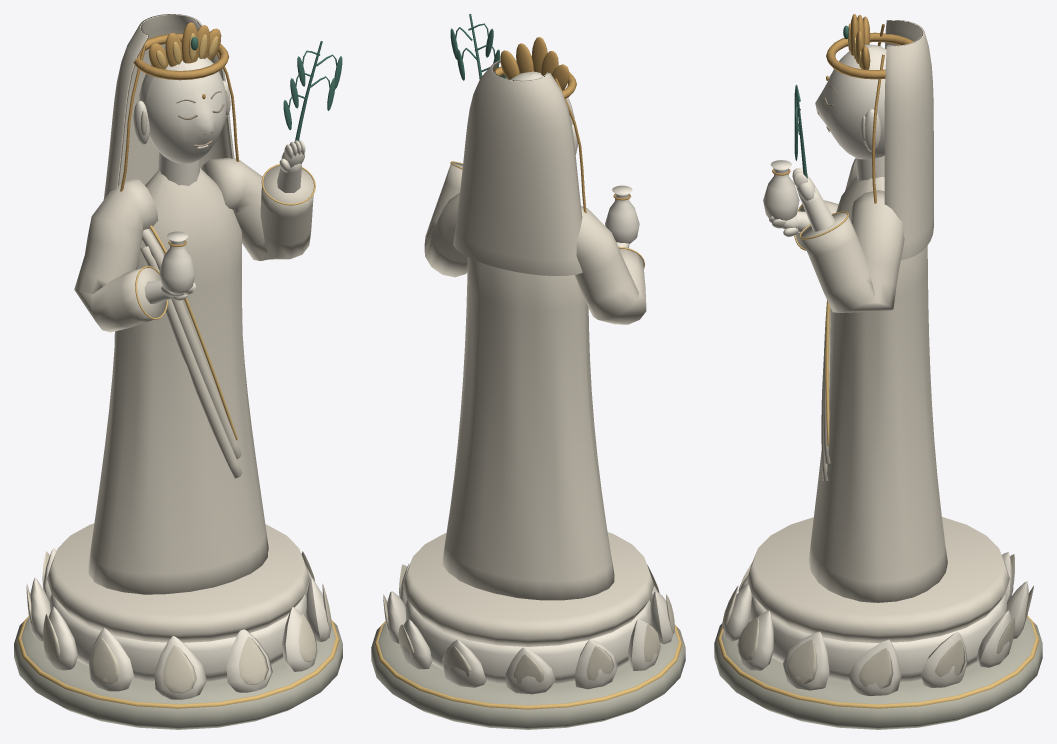
The model's file is quanam_lod1.glb.
3 views of the same model, side by side, from view 1: azimuth 30°, elevation 25°; view 2: azimuth 150°, elevation 25°; view 3: azimuth 270°, elevation 25° (orthographic). The views are drawn at different scales.
Visible parts, largest first — view 1: quanam_IvoryDrapery, quanam_WarmPorcelain, quanam_PaleStonePlinth, quanam_PorcelainPetalRelief, quanam_RaisedGoldBorders, quanam_AntiqueGold, quanam_JadeAccents; view 2: quanam_IvoryDrapery, quanam_WarmPorcelain, quanam_PaleStonePlinth, quanam_PorcelainPetalRelief, quanam_AntiqueGold, quanam_RaisedGoldBorders, quanam_JadeAccents; view 3: quanam_IvoryDrapery, quanam_WarmPorcelain, quanam_PaleStonePlinth, quanam_PorcelainPetalRelief, quanam_RaisedGoldBorders, quanam_AntiqueGold, quanam_JadeAccents.
Boxes of the visible parts, bbox=[...] form: quanam_IvoryDrapery: bbox=[47, 14, 313, 642]; quanam_WarmPorcelain: bbox=[28, 57, 331, 699]; quanam_PaleStonePlinth: bbox=[14, 618, 342, 729]; quanam_PorcelainPetalRelief: bbox=[26, 551, 331, 693]; quanam_RaisedGoldBorders: bbox=[17, 33, 339, 708]; quanam_AntiqueGold: bbox=[120, 22, 239, 246]; quanam_JadeAccents: bbox=[191, 37, 342, 140]; quanam_IvoryDrapery: bbox=[403, 60, 653, 646]; quanam_WarmPorcelain: bbox=[385, 71, 674, 694]; quanam_PaleStonePlinth: bbox=[371, 623, 685, 729]; quanam_PorcelainPetalRelief: bbox=[383, 564, 674, 683]; quanam_AntiqueGold: bbox=[494, 37, 630, 213]; quanam_RaisedGoldBorders: bbox=[374, 161, 682, 709]; quanam_JadeAccents: bbox=[450, 14, 506, 80]; quanam_IvoryDrapery: bbox=[747, 20, 1009, 643]; quanam_WarmPorcelain: bbox=[723, 44, 1028, 695]; quanam_PaleStonePlinth: bbox=[714, 617, 1042, 729]; quanam_PorcelainPetalRelief: bbox=[722, 554, 1033, 688]; quanam_RaisedGoldBorders: bbox=[717, 23, 1039, 708]; quanam_AntiqueGold: bbox=[772, 14, 913, 203]; quanam_JadeAccents: bbox=[794, 25, 848, 178].
Bounding box in the file's own units: 0.92 × 2.01 × 0.92.
